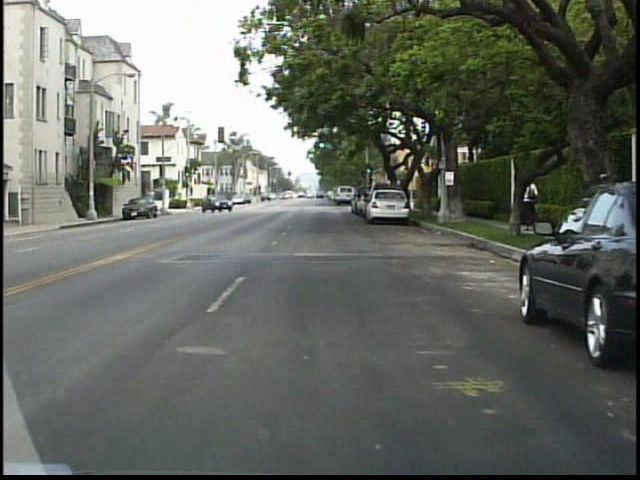person: (518, 181, 541, 227)
